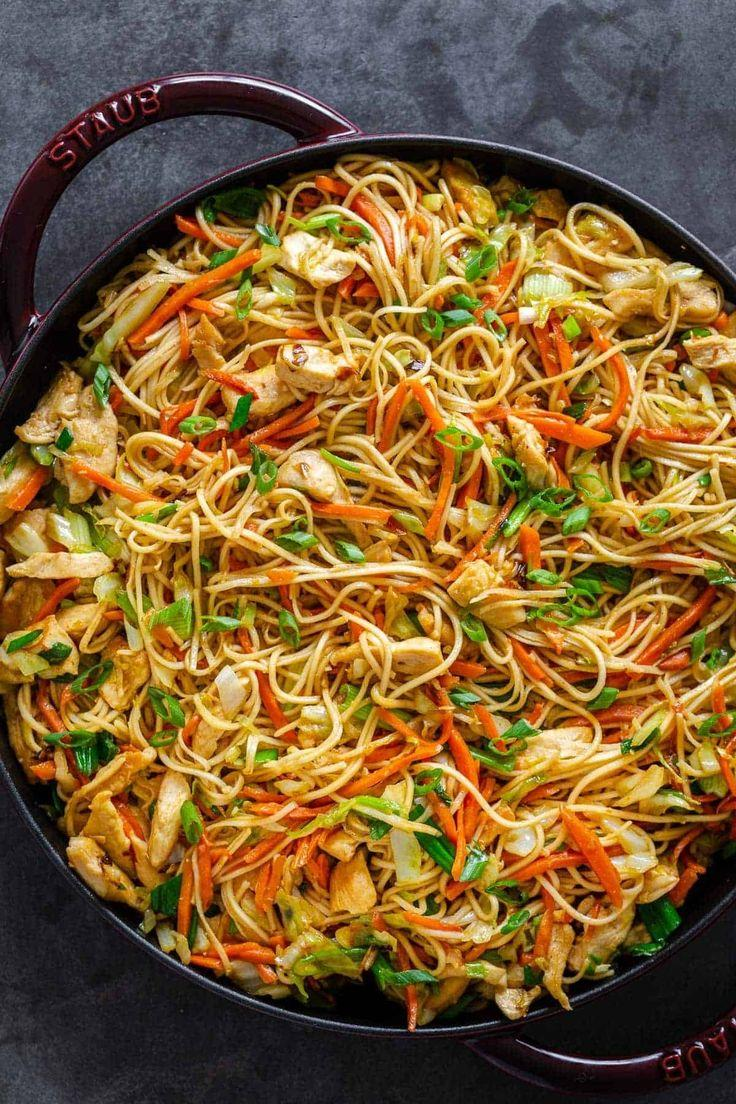pancit bihon: (5, 138, 736, 1022)
